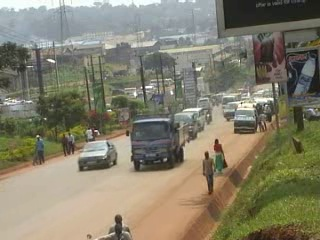Car: (76, 138, 121, 171)
Motorcycle: (86, 228, 136, 239), (204, 106, 212, 127)
